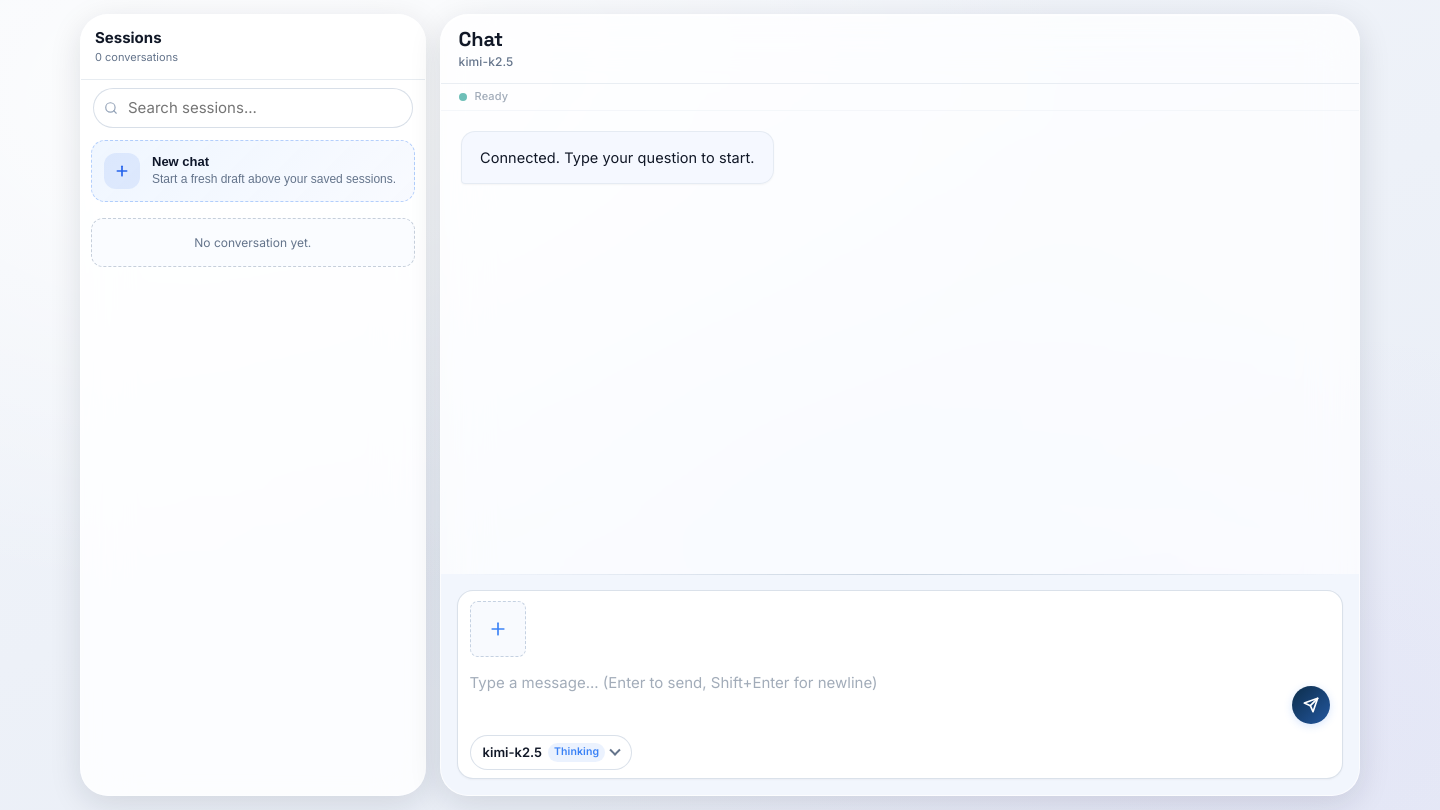
Scenario: App behavior (session v2) › blocks sending globally while another session is running
Type "session one question" into the text box with placeholder "Type a message... (Enter to send, Shift+Enter for newline)".
click(877, 695); type("session one question")  # box [470, 665, 1284, 725]
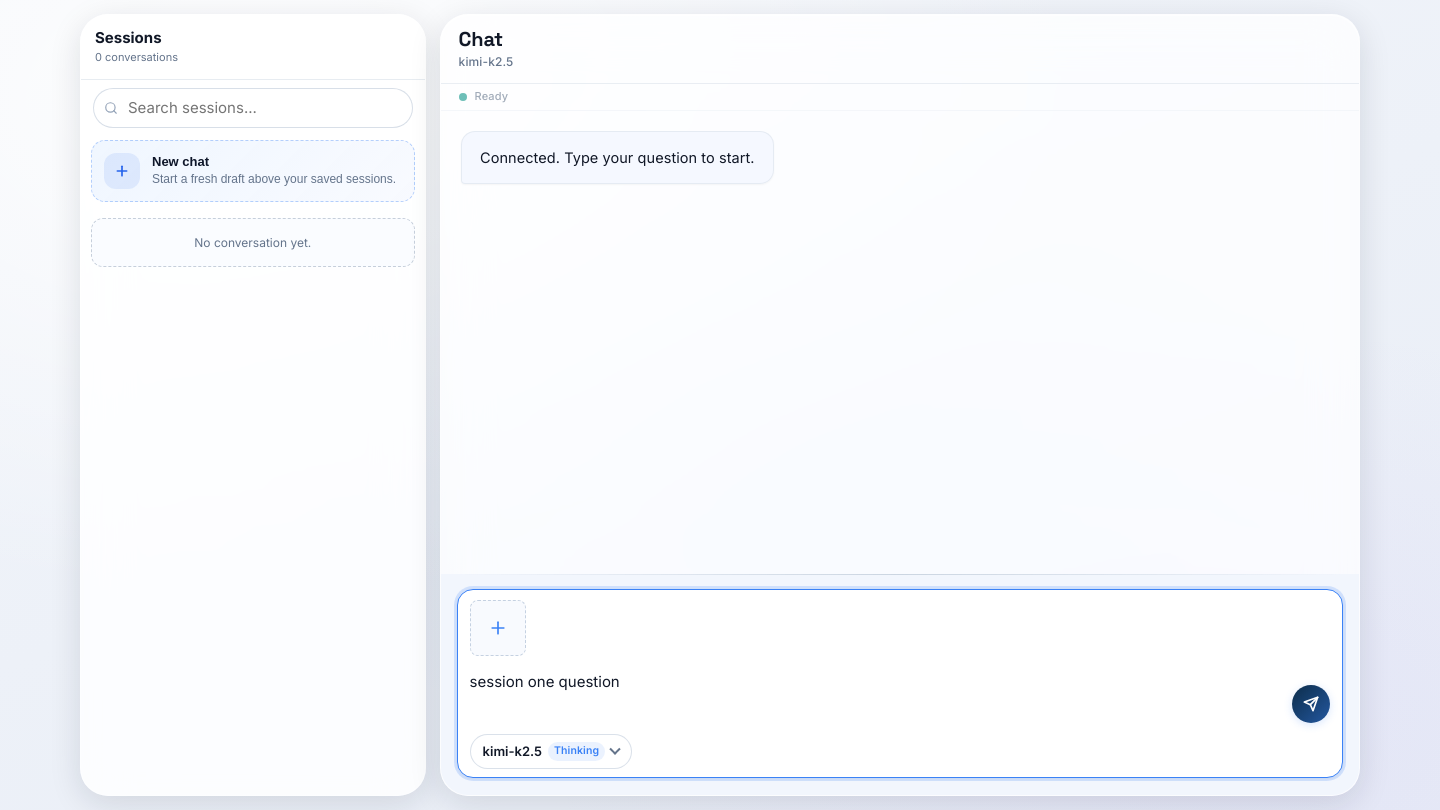
Submit the form with class "composer", box [441, 574, 1359, 795]
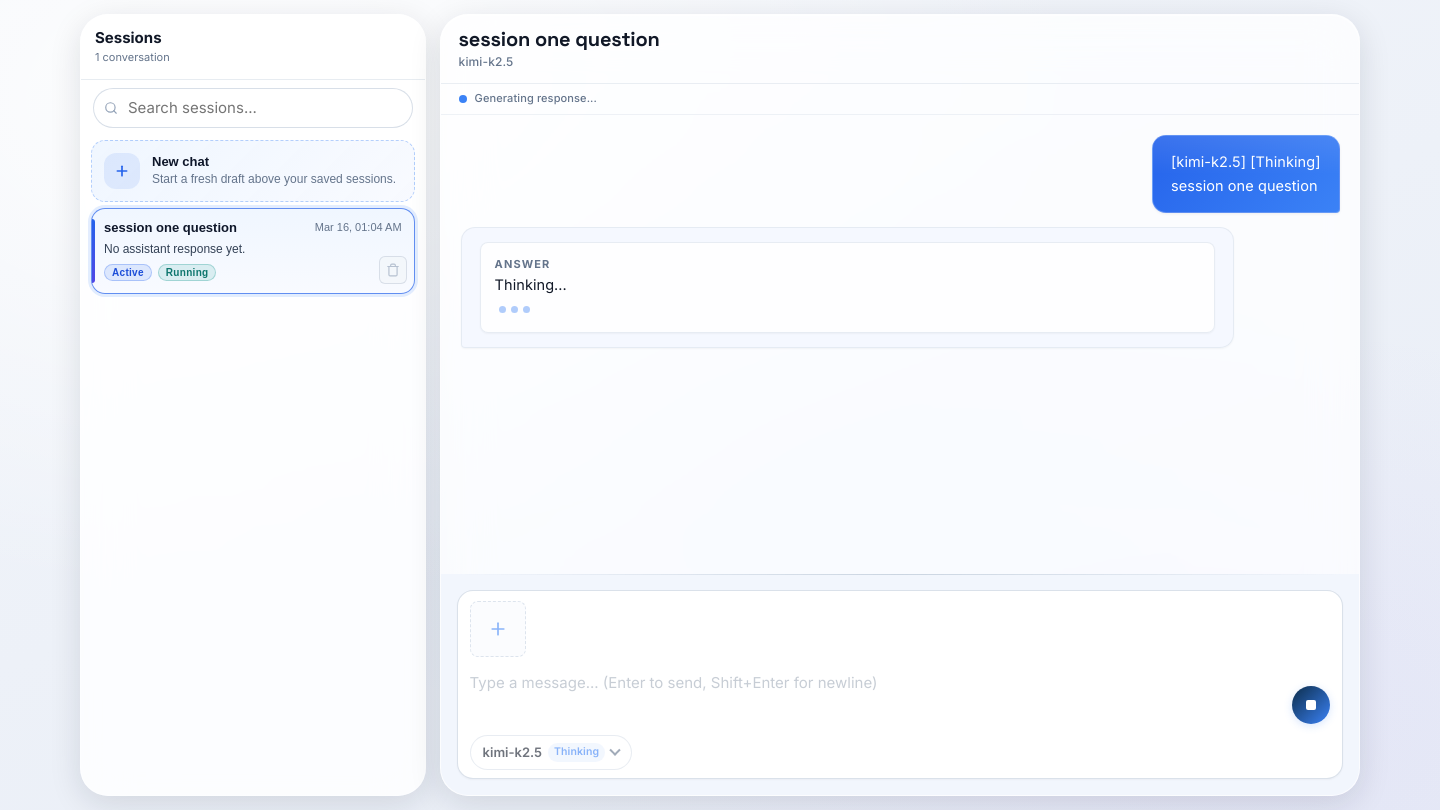
Now the button named "Stop" is shown, box [1292, 686, 1330, 724]
Now the text "Generating response..." is shown, box [475, 90, 597, 108]
Click the button labelled "New chat".
click(253, 171)  # box [91, 140, 415, 202]
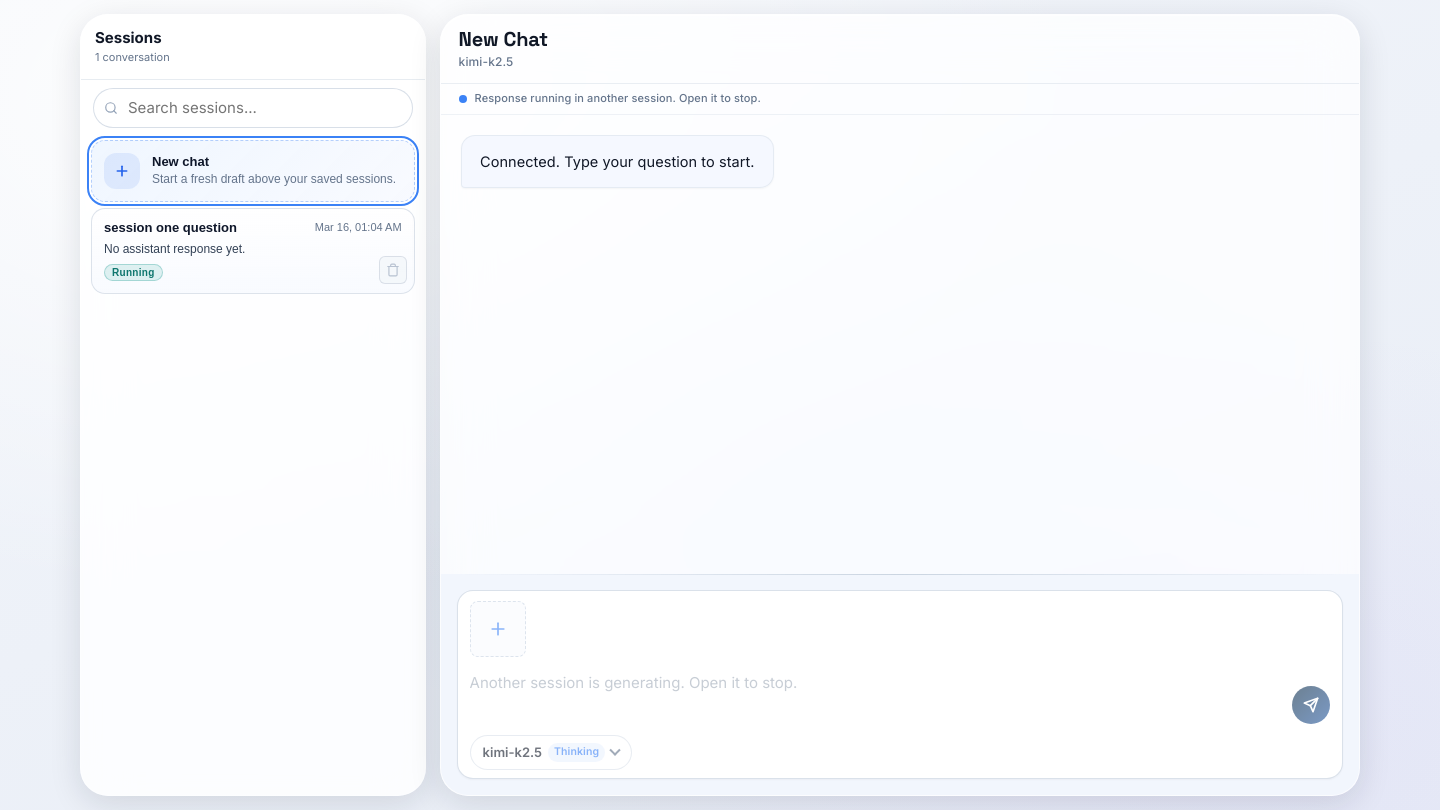
Now the text box with placeholder "Another session is generating. Open it to stop." is disabled, box [470, 665, 1284, 725]
Now the button named "Send" is disabled, box [1292, 686, 1330, 724]
Now the text "Response running in another session. Open it to stop." is shown, box [475, 90, 761, 108]
Click the button with class "session-item" that starts with "session one question".
click(170, 227)  # box [91, 208, 415, 294]
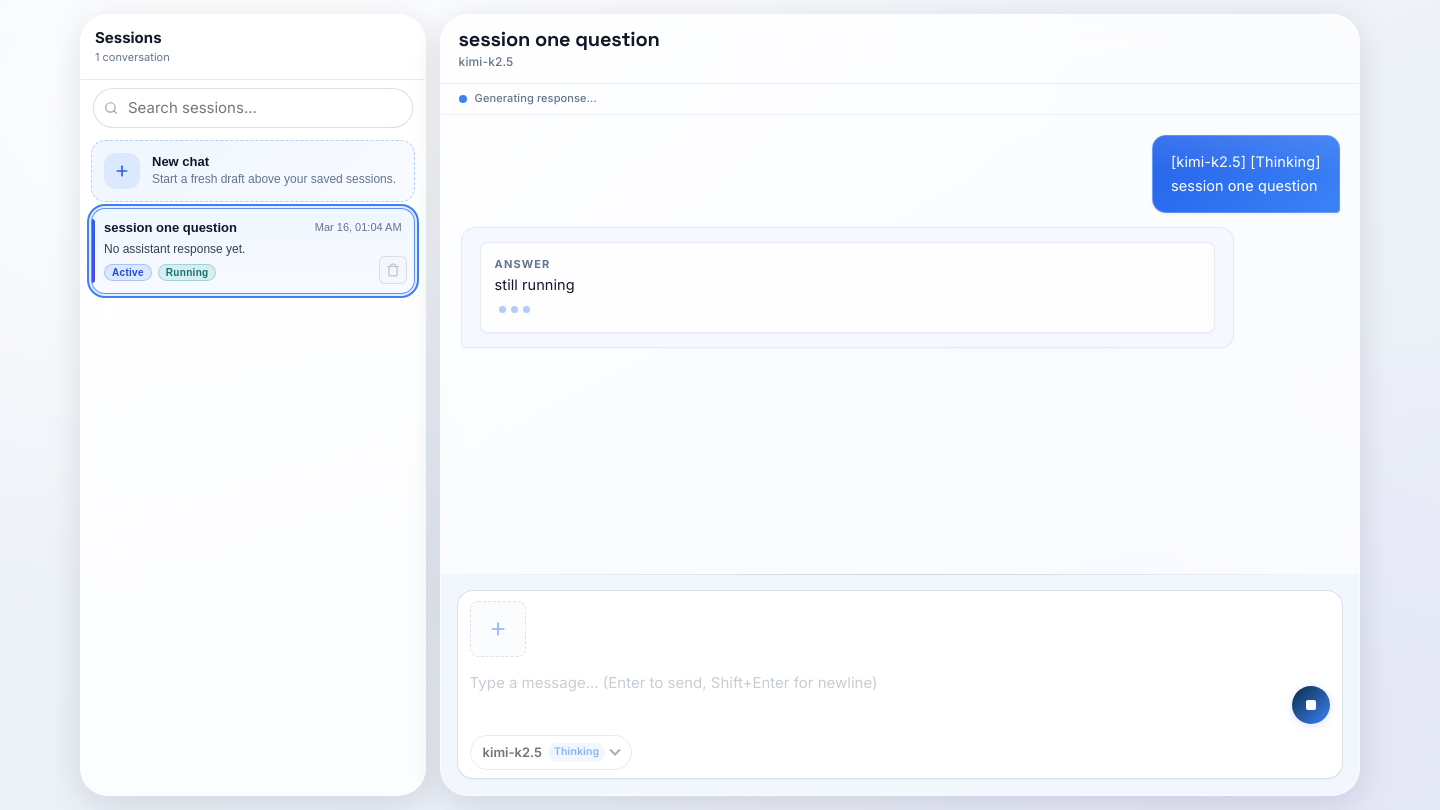
Now the button named "Stop" is shown
Click the button named "Stop".
click(1311, 705)  # box [1292, 686, 1330, 724]
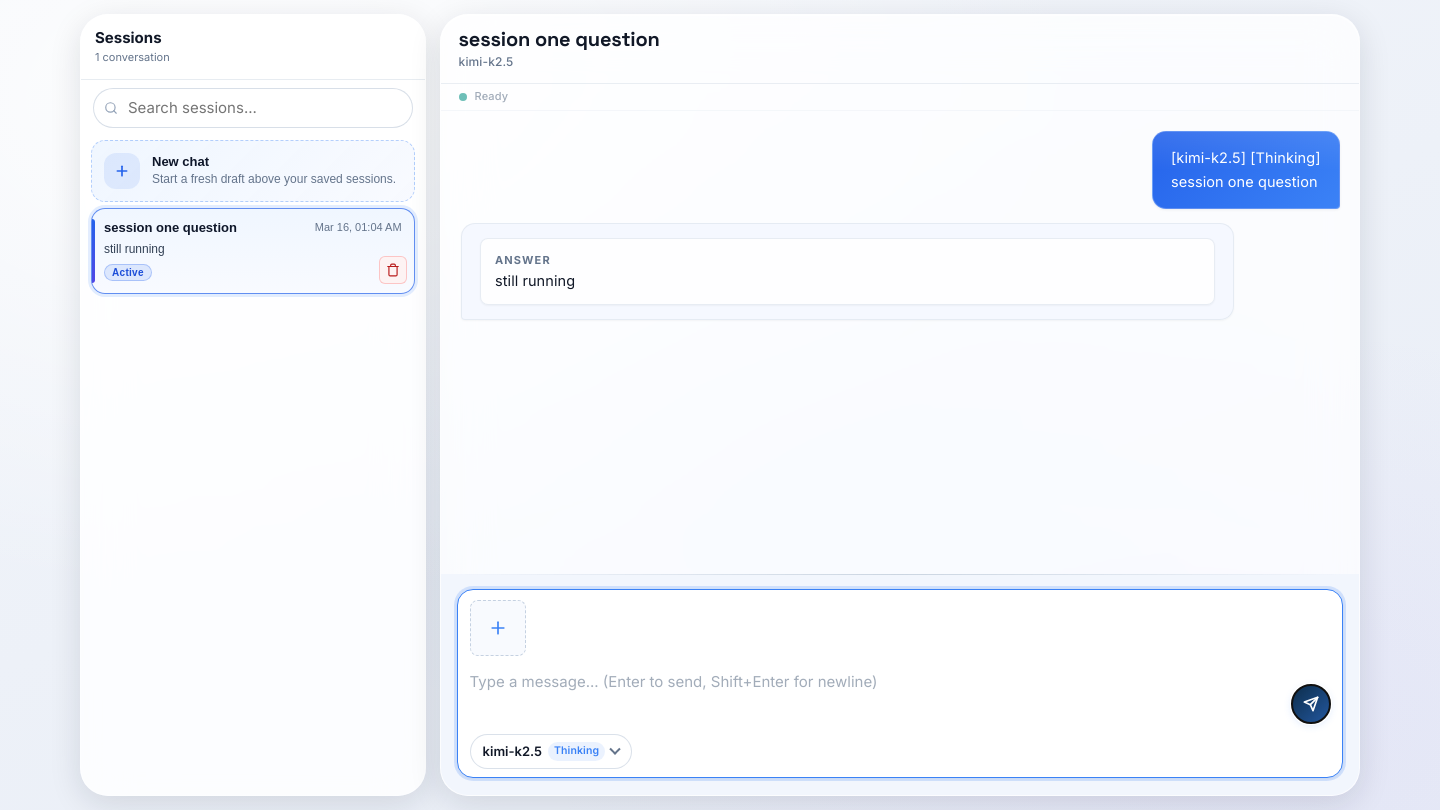
Now the text "Ready" is shown, box [475, 88, 508, 106]
